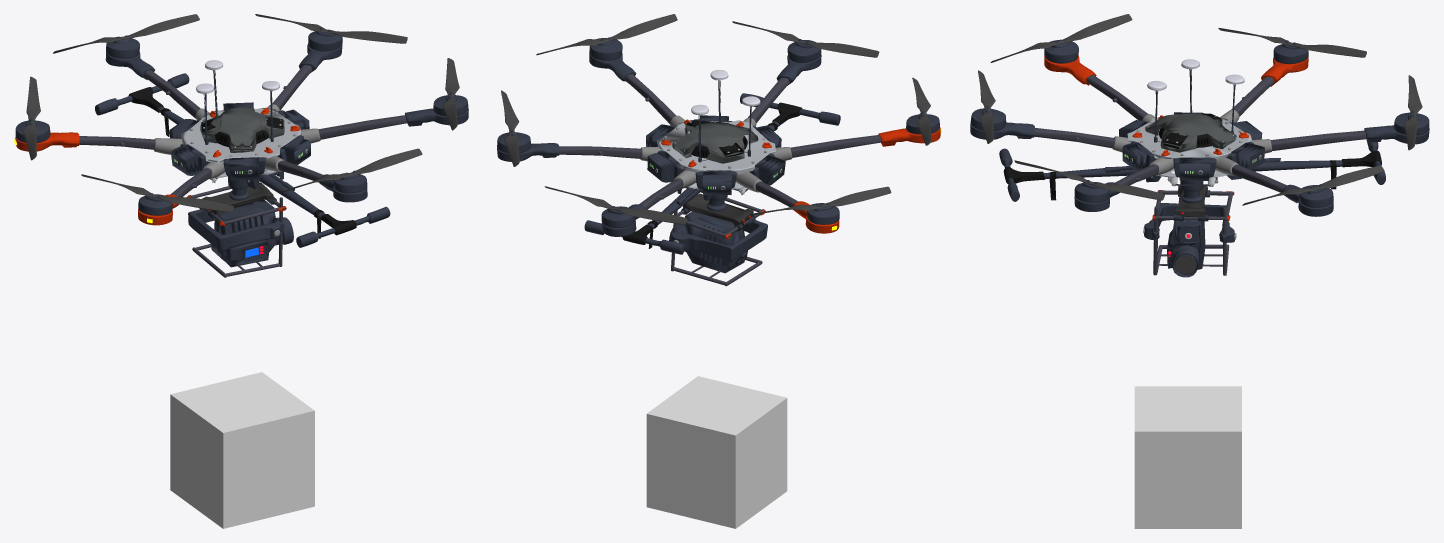
Rendered from drone.glb.
3 renders of one model, left to right at view 1: azimuth 30°, elevation 25°; view 2: azimuth 150°, elevation 25°; view 3: azimuth 270°, elevation 25°, orthographic. The views are drawn at different scales.
Visible parts, largest first — view 1: Cube, Object_7, Object_8, Object_9, Object_15, Object_5, Object_17, Object_14, Object_10, Object_23, Object_11, Object_27 (+8 smaller); view 2: Cube, Object_7, Object_8, Object_9, Object_15, Object_17, Object_5, Object_14, Object_10, Object_23, Object_11, Propeller_5 (+9 smaller); view 3: Cube, Object_7, Object_8, Object_9, Object_15, Object_14, Object_5, Object_17, Object_10, Object_23, Object_27, Object_11 (+9 smaller).
Boxes of the visible parts, box(x1,y1,x2,y2) form: Cube: box(170, 372, 314, 528); Object_7: box(105, 27, 342, 267); Object_8: box(15, 35, 390, 247); Object_9: box(180, 110, 367, 250); Object_15: box(189, 65, 407, 277); Object_5: box(200, 107, 284, 152); Object_17: box(181, 108, 301, 177); Object_14: box(79, 70, 211, 196); Object_10: box(181, 92, 468, 219); Object_23: box(15, 107, 299, 225); Object_11: box(154, 104, 320, 178); Object_27: box(128, 87, 356, 238); Cube: box(646, 376, 787, 528); Object_7: box(497, 80, 785, 273); Object_8: box(584, 81, 939, 254); Object_9: box(651, 39, 821, 260); Object_15: box(559, 74, 764, 286); Object_17: box(657, 120, 775, 189); Object_5: box(672, 120, 758, 163); Object_14: box(639, 135, 881, 209); Object_10: box(589, 37, 779, 188); Object_23: box(661, 119, 940, 239); Object_11: box(640, 115, 792, 192); Propeller_5: box(536, 14, 677, 55); Cube: box(1134, 386, 1241, 528); Object_7: box(1119, 69, 1429, 269); Object_8: box(999, 38, 1429, 277); Object_9: box(970, 106, 1234, 242); Object_15: box(1115, 164, 1286, 275); Object_14: box(1086, 75, 1366, 186); Object_5: box(1145, 113, 1236, 152); Object_17: box(1127, 115, 1252, 177); Object_10: box(1044, 122, 1253, 211); Object_23: box(1044, 55, 1308, 221); Object_27: box(1003, 150, 1381, 200); Object_11: box(1112, 109, 1272, 176).
Bounding box in the file's own units: 8.59 × 8.83 × 8.56.
